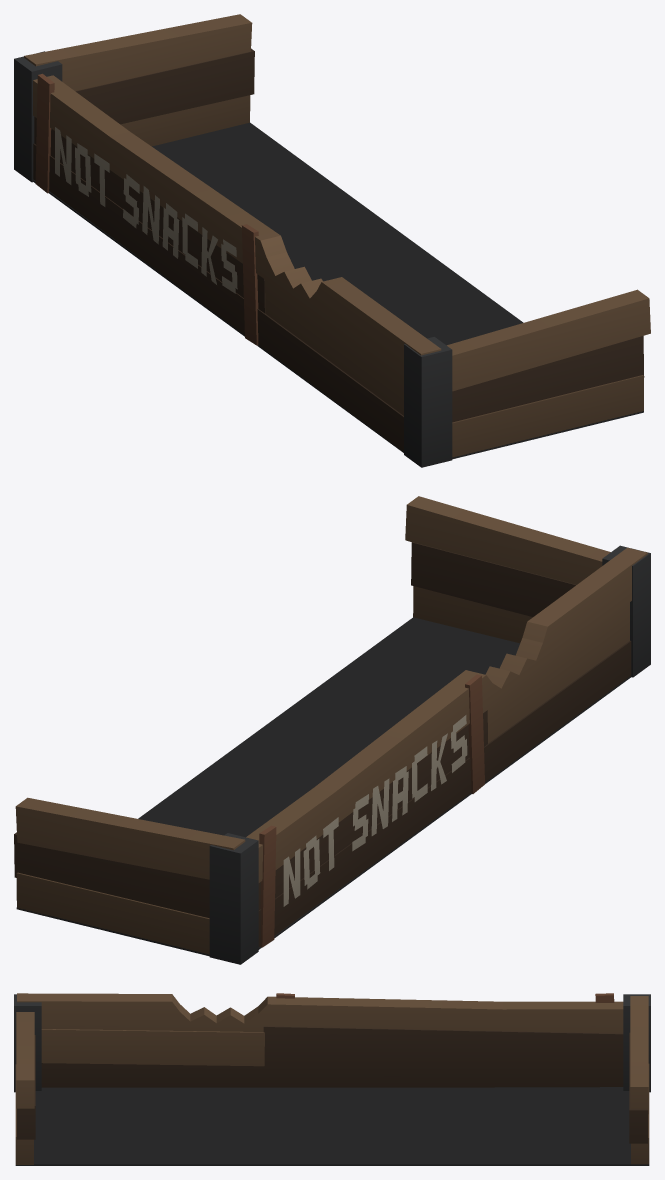
The model's file is coal_bin.glb.
3 renders of one model, top to bottom at view 1: azimuth 30°, elevation 25°; view 2: azimuth 150°, elevation 25°; view 3: azimuth 270°, elevation 25°, orthographic. The views are drawn at different scales.
Visible parts, largest first — view 1: CoalBin; view 2: CoalBin; view 3: CoalBin.
Part boxes in pixels (box(x1,y1,x2,y2)): CoalBin: box(14, 14, 650, 467); CoalBin: box(14, 496, 650, 964); CoalBin: box(14, 993, 650, 1165).
Size of the model in its own units: 1.36 by 0.6309 by 4.14.
